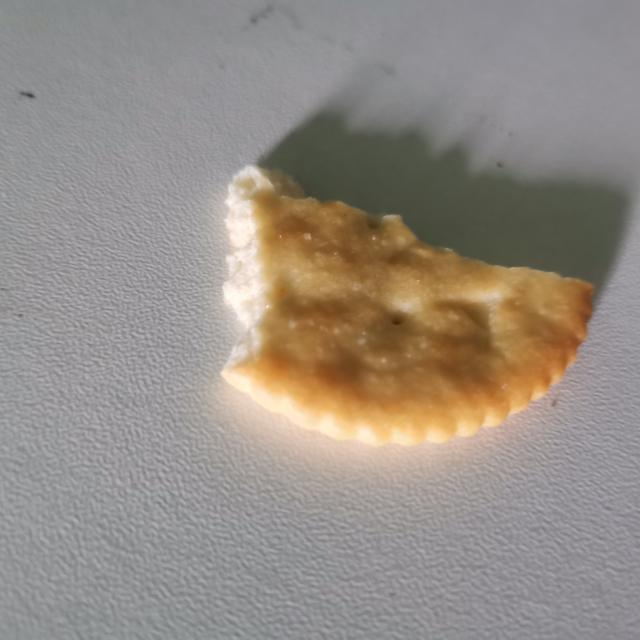Broken: (219, 163, 596, 448)
